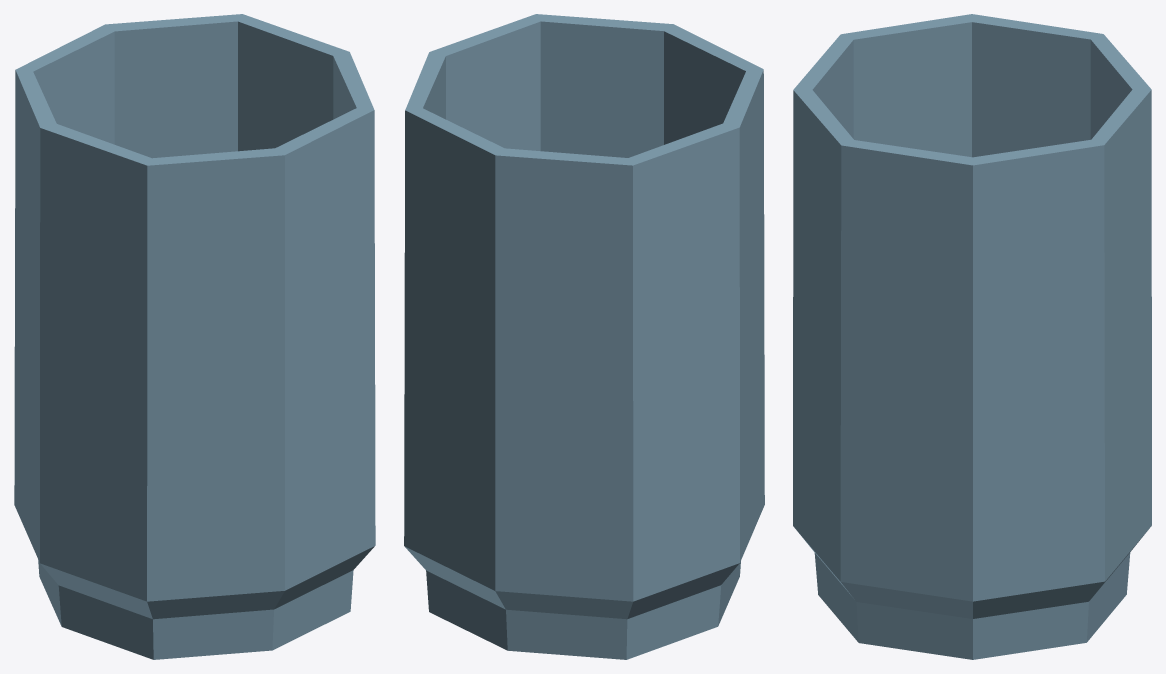
File: Glass_3.fbx
3 renders of one model, left to right at view 1: azimuth 30°, elevation 25°; view 2: azimuth 150°, elevation 25°; view 3: azimuth 270°, elevation 25°, orthographic.
Parts seen in each view (by area): view 1: Glass_3; view 2: Glass_3; view 3: Glass_3.
Boxes of the visible parts, left/top/right/bottom form: Glass_3: left=14, top=14, right=375, bottom=659; Glass_3: left=404, top=14, right=764, bottom=659; Glass_3: left=793, top=14, right=1151, bottom=659.
Size of the model in its own units: 11.08 by 11.08 by 17.21.
